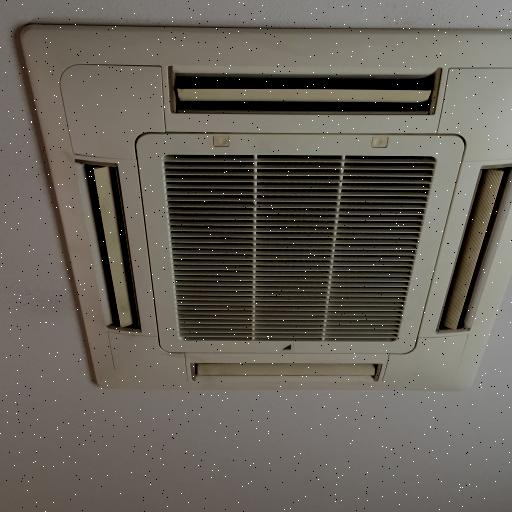4-way-ac: (15, 21, 512, 394)
